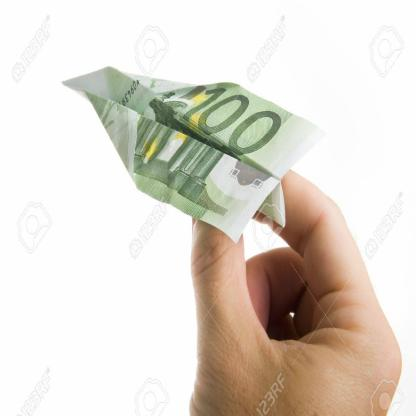billete: (60, 64, 328, 242)
